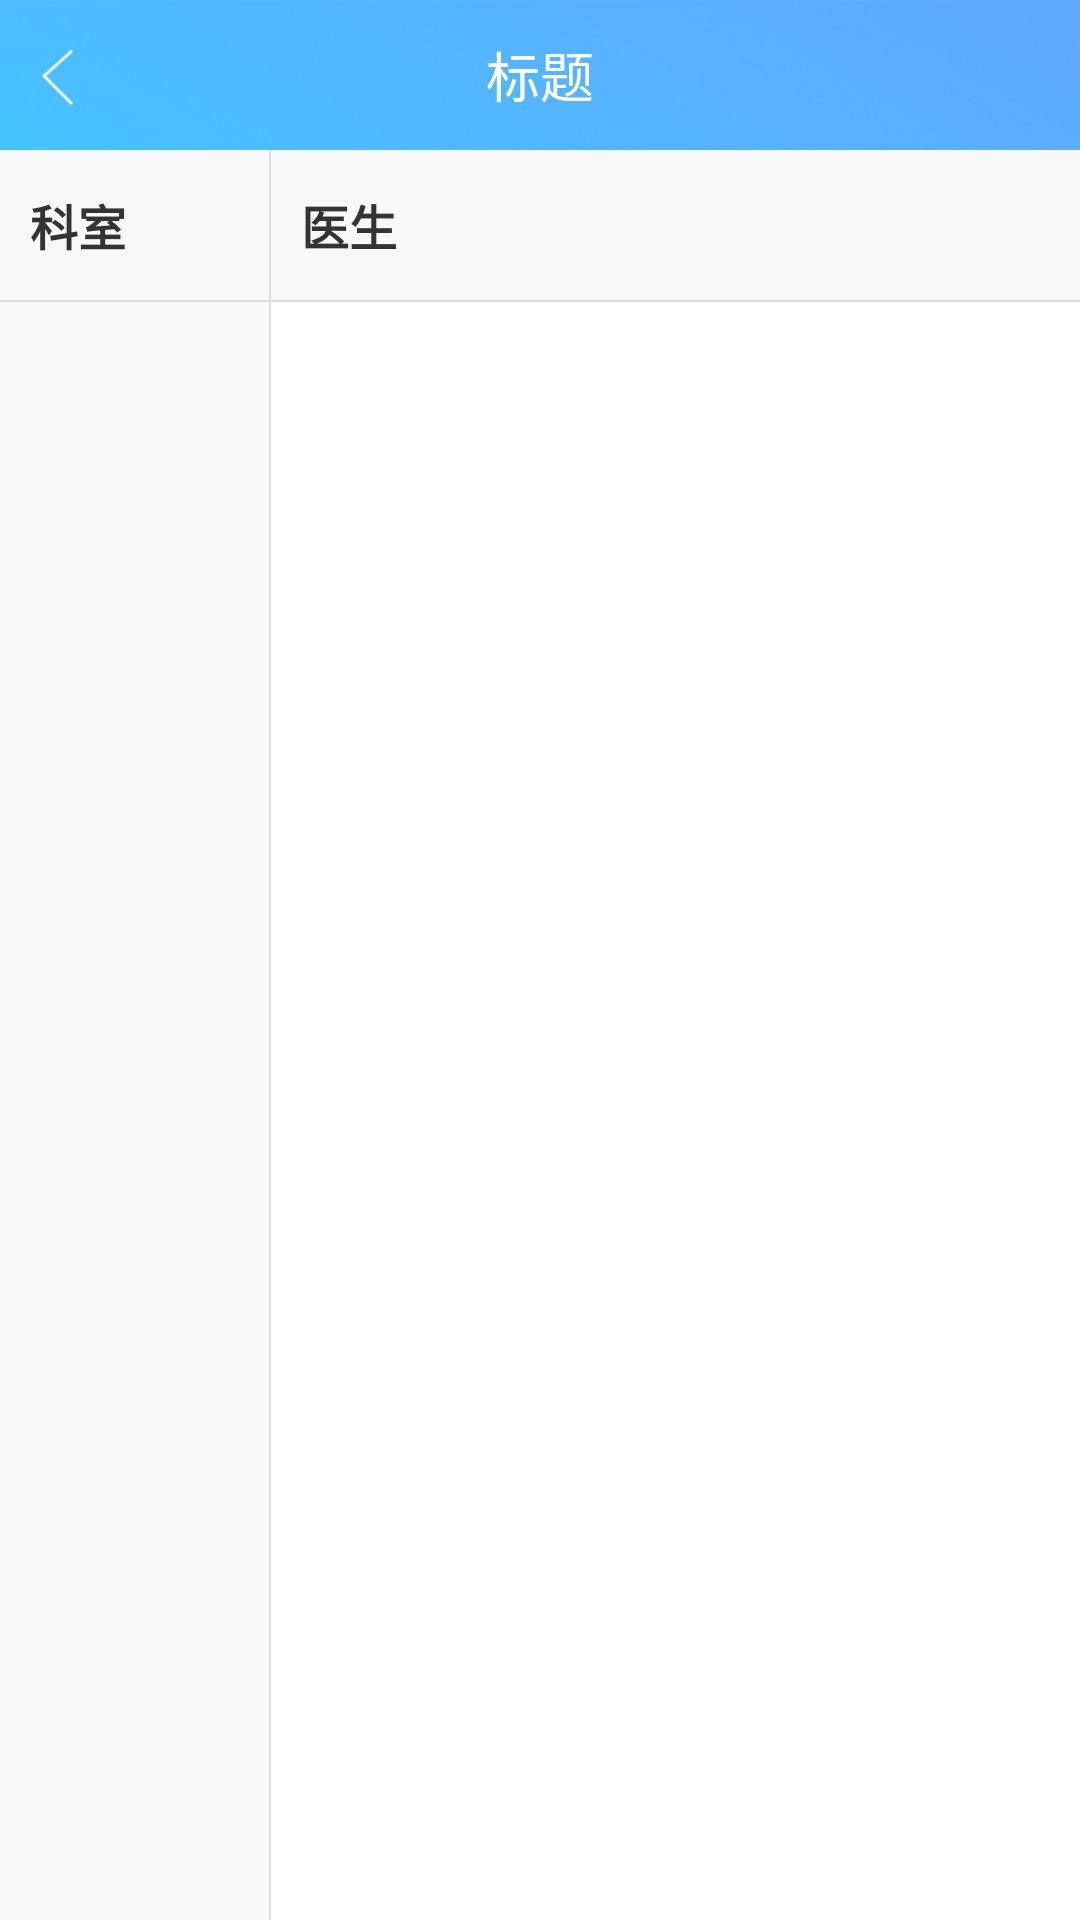

Named icons in this screenshot (1080px x 1920px) and their bounding boxes, [x1,y1,x2,y2]:
back: [42,50,73,105]
